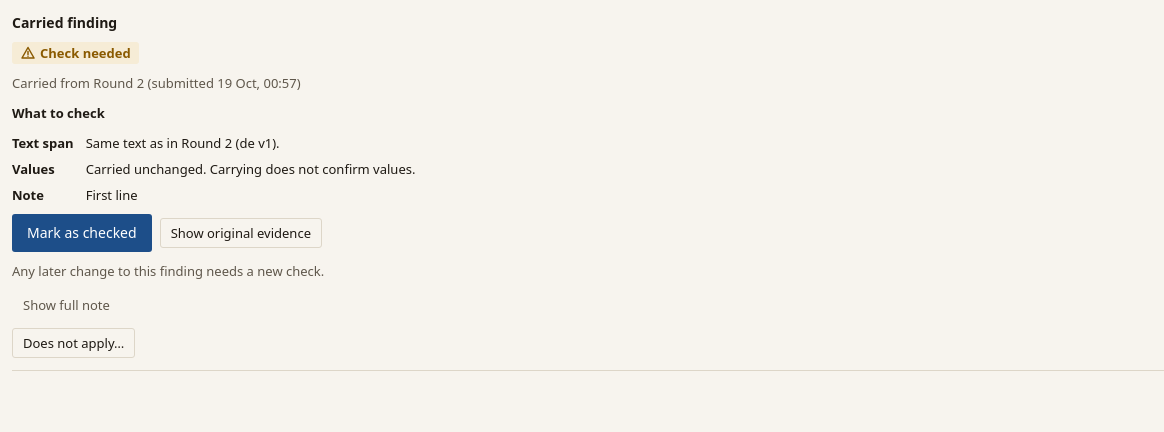
Test case: CarriedSection › shows_and_hides_the_full_note
Click the button "Show full note" at {"x": 66, "y": 305}, box [12,290,121,320]
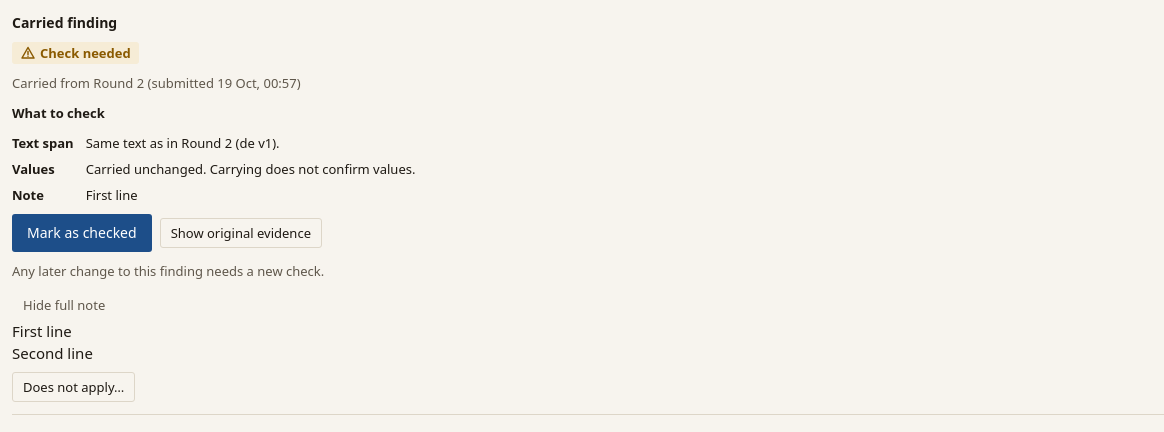
Expected: the button "Hide full note" is expanded, [12,290,116,320]
Expected: the text "First line Second line" is shown, [12,321,93,363]
